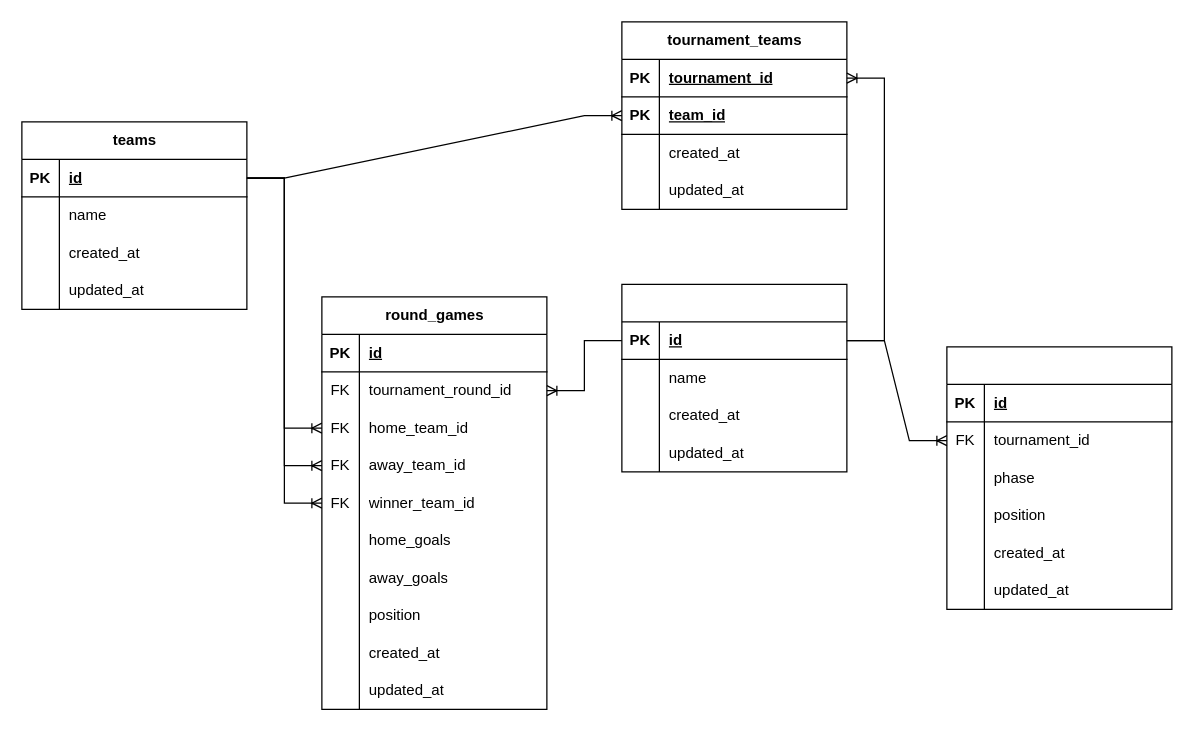
This 1194x731 diagram has some shape labels left out. Each missing label, with the box of its shape:
tournament_rounds: (946, 346, 1172, 609)
tournaments: (621, 283, 847, 472)
